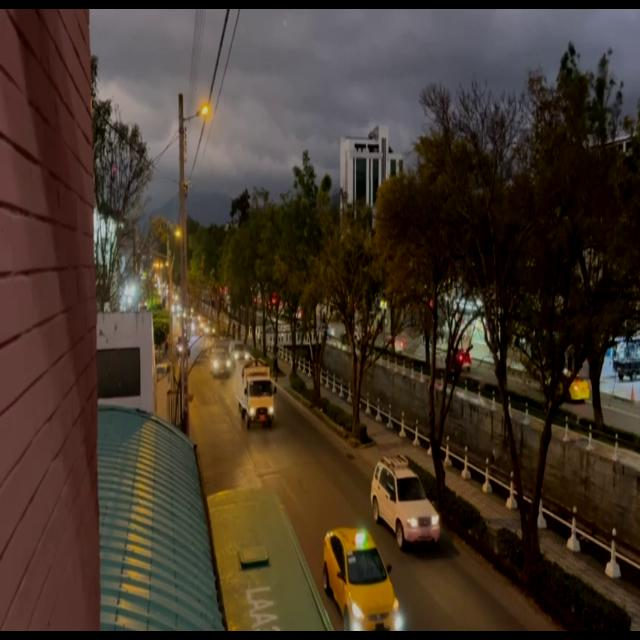SED: (328, 534, 402, 634)
SUV: (378, 462, 441, 542), (210, 348, 230, 378)
TRUCK: (238, 362, 276, 424)
